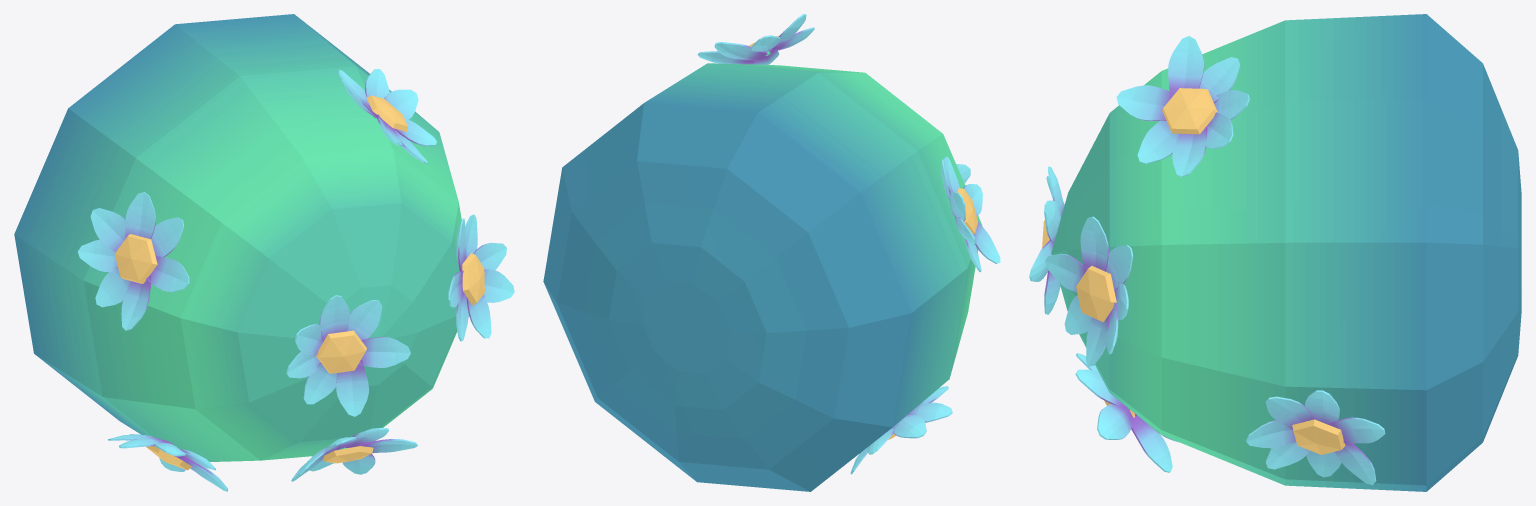
The model's file is bush3.glb.
3 renders of one model, left to right at view 1: azimuth 30°, elevation 25°; view 2: azimuth 150°, elevation 25°; view 3: azimuth 270°, elevation 25°, orthographic. The views are drawn at different scales.
Visible parts, largest first — view 1: bush_17; view 2: bush_17; view 3: bush_17.
Part boxes in pixels (x1,y1,x2,y2): bush_17: (14,14,514,491); bush_17: (543,14,1000,491); bush_17: (1029,14,1521,491).
Bounding box in the file's own units: 3.58 × 3.52 × 3.46.
1 material, 1 textured.
